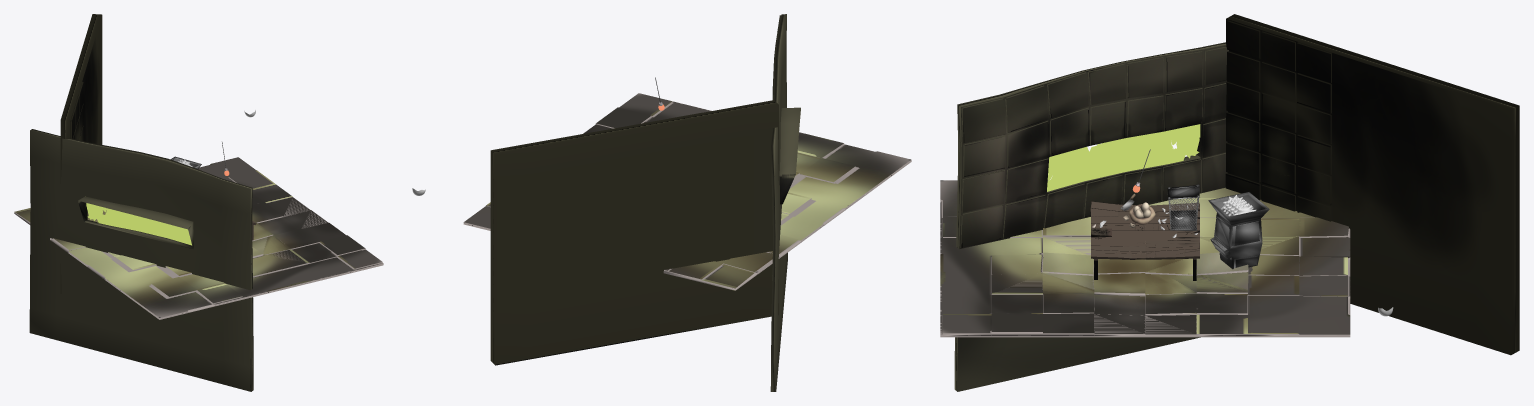
File: poultry_man_menu.glb
3 views of the same model, side by side, from view 1: azimuth 30°, elevation 25°; view 2: azimuth 150°, elevation 25°; view 3: azimuth 270°, elevation 25° (orthographic). The views are drawn at different scales.
Visible parts, largest first — view 1: WallLeft, Floor, WallRight, Window; view 2: WallRight, Floor, WallLeft; view 3: WallRight, Floor, WallLeft, Window, Tabel, Grinder, Cage, CageOuter.
Boxes of the visible parts, x1,y1,x2,y2 form: WallLeft: (29, 129, 253, 391); Floor: (14, 157, 383, 319); WallRight: (60, 14, 102, 293); Window: (86, 203, 191, 245); WallRight: (490, 100, 778, 365); Floor: (463, 93, 911, 290); WallLeft: (770, 14, 800, 391); WallRight: (1225, 14, 1519, 355); Floor: (940, 180, 1350, 337); WallLeft: (954, 42, 1228, 391); Window: (1047, 124, 1200, 191); Tabel: (1090, 201, 1199, 280); Grinder: (1208, 192, 1269, 269); Cage: (1167, 184, 1199, 230); CageOuter: (1168, 197, 1198, 229).
Size of the model in its own units: 60.9 by 49.04 by 82.35.
16 materials, 14 textured.
